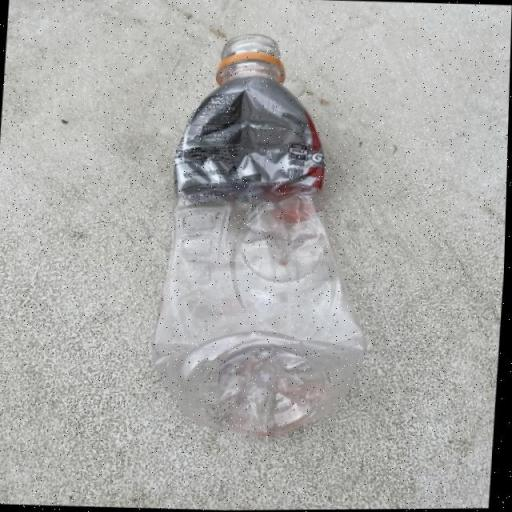plastic: (147, 28, 387, 442)
